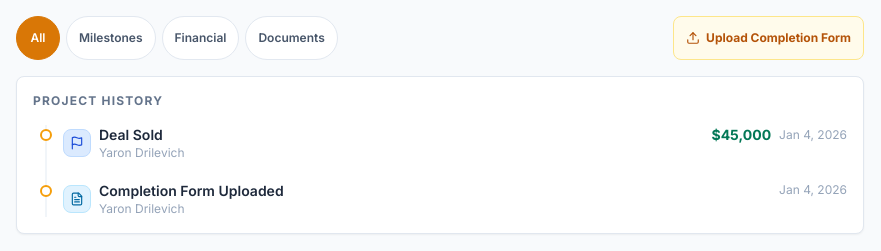
Test: ActivityTab — real project timeline, not the old placeholder › filters to Documents-only when the Documents chip is clicked
The width and height of the screenshot is (881, 251).
Expected: the text "Deal Sold" is shown, [99,126,163,143]
Click the button "Documents".
click(292, 38)  # box [245,16,338,60]
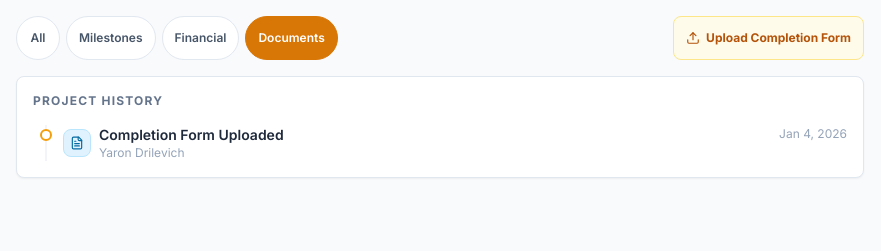
Expected: the text "Completion Form Uploaded" is shown, [99,125,284,145]
Expected: the text "Deal Sold" is gone
